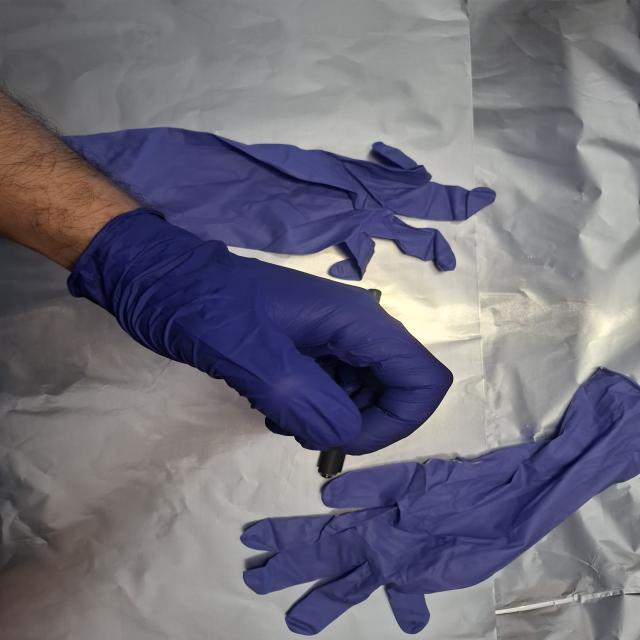glove_on: (68, 206, 456, 459)
